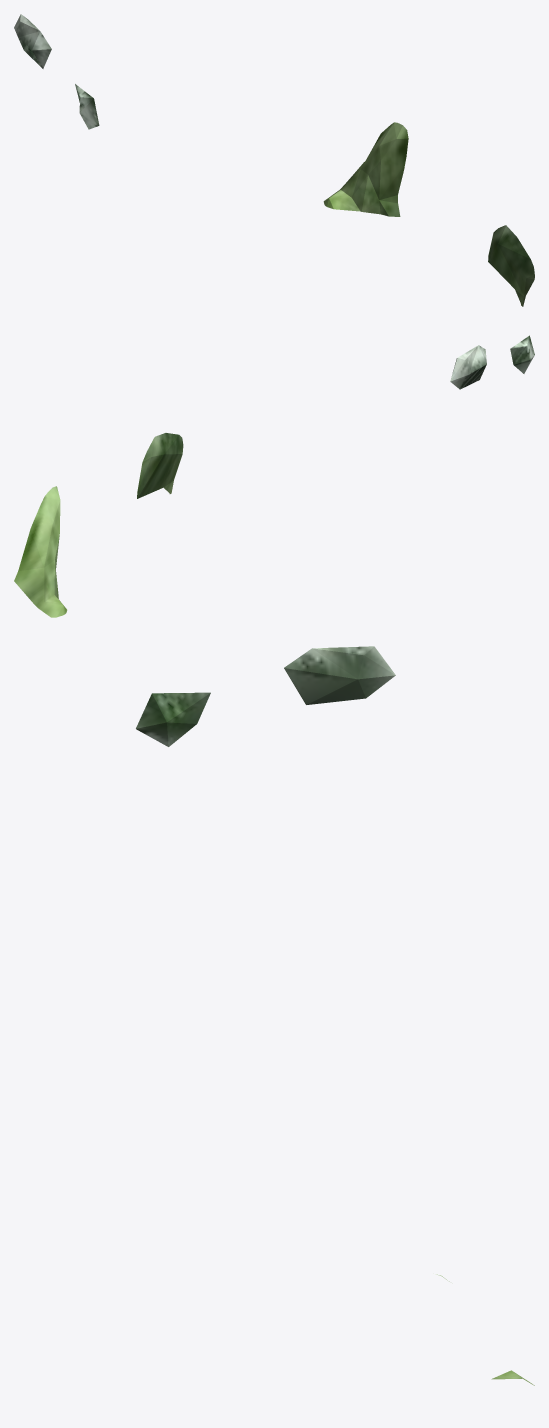
The picture shows the model from 3 angles, top to bottom: view 1: azimuth 30°, elevation 25°; view 2: azimuth 150°, elevation 25°; view 3: azimuth 270°, elevation 25°; orthographic projection. The views are drawn at different scales.
Size of the model in its own units: 4.43 by 3.25 by 3.24.
1 material, 1 textured.
